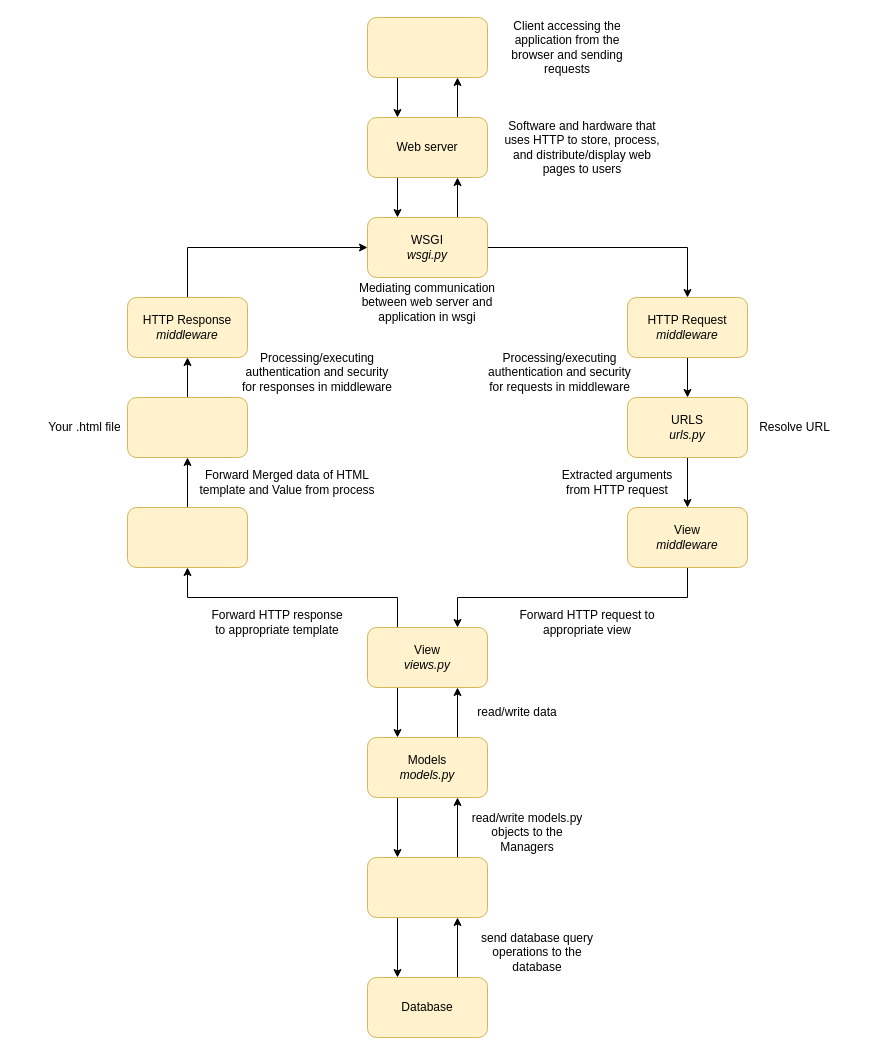
This 879x1055 diagram has some shape labels left out. Each missing label, with the centre of its shape:
"Client (browser)" belongs at (x=427, y=47).
"Managers" belongs at (x=427, y=887).
"Template main.html" belongs at (x=187, y=427).
"Template middleware" belongs at (x=187, y=537).
